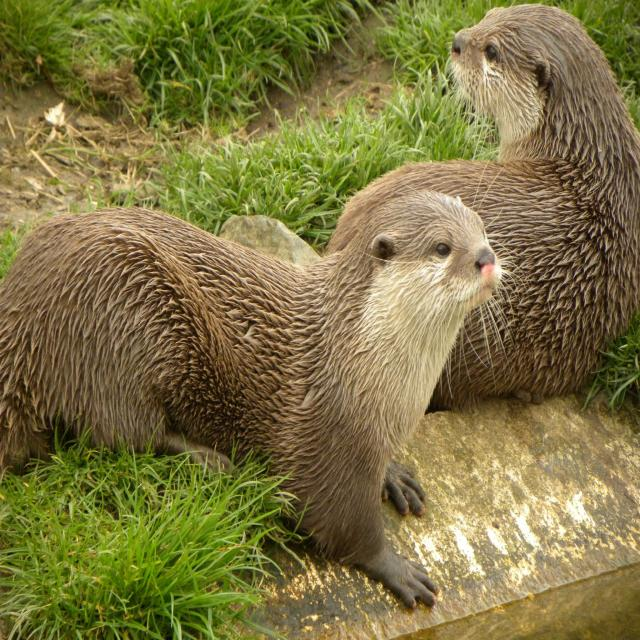otter: (1, 193, 502, 613), (327, 4, 640, 406)
